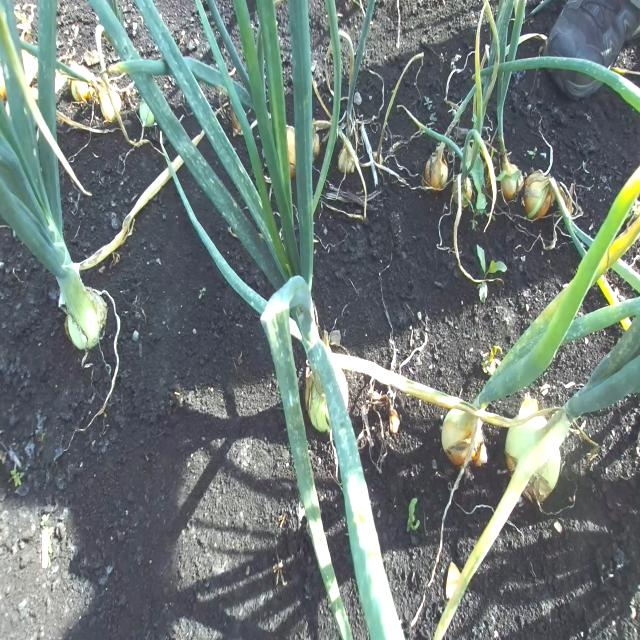onion: (504, 407, 570, 503), (442, 404, 488, 469), (522, 169, 554, 221), (497, 152, 525, 202), (424, 142, 449, 191), (452, 174, 474, 208)
